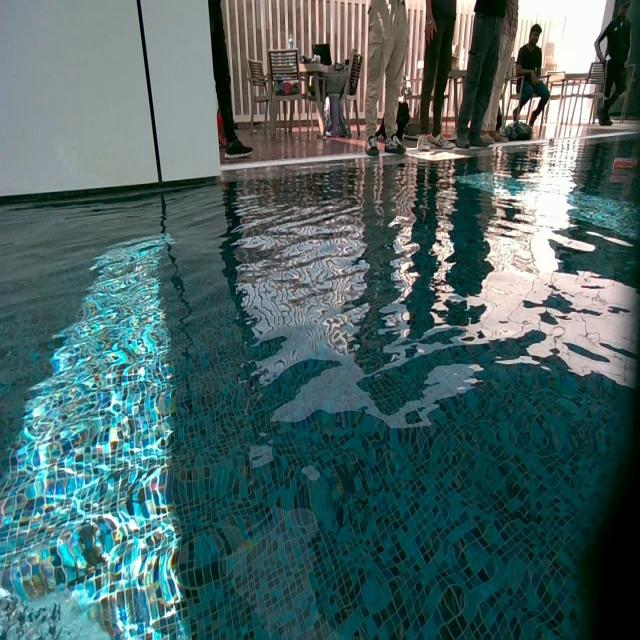Cans: (611, 156, 640, 174)
